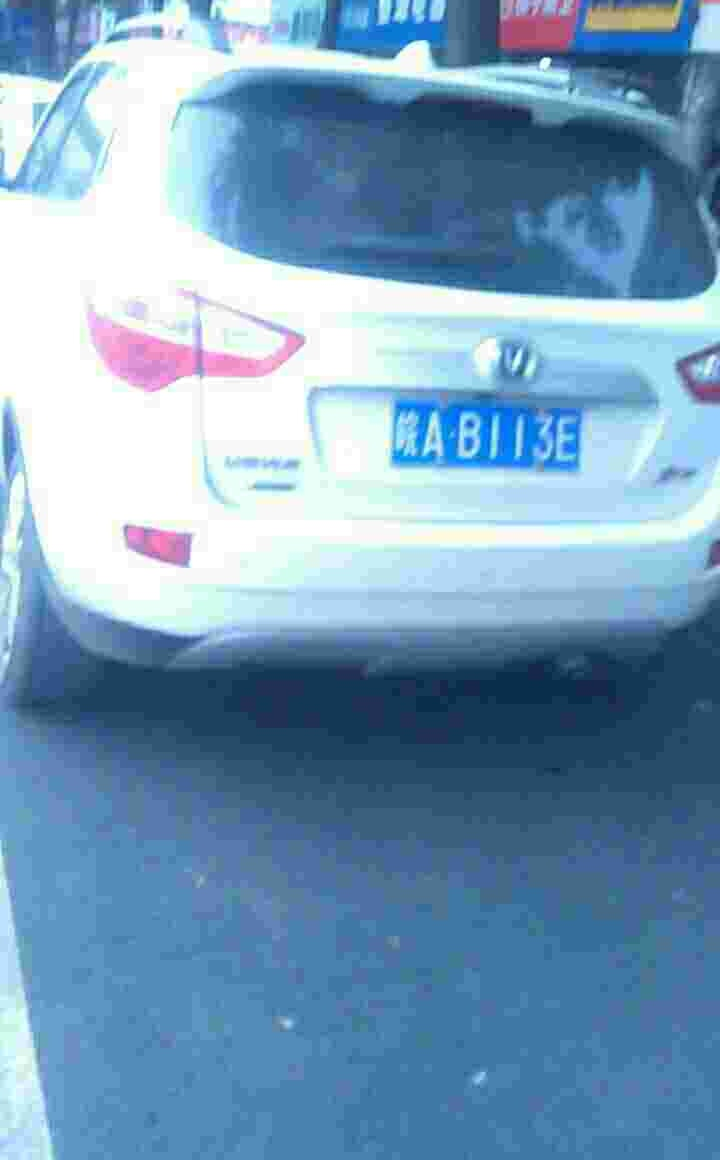license_plate: (381, 404, 595, 473)
